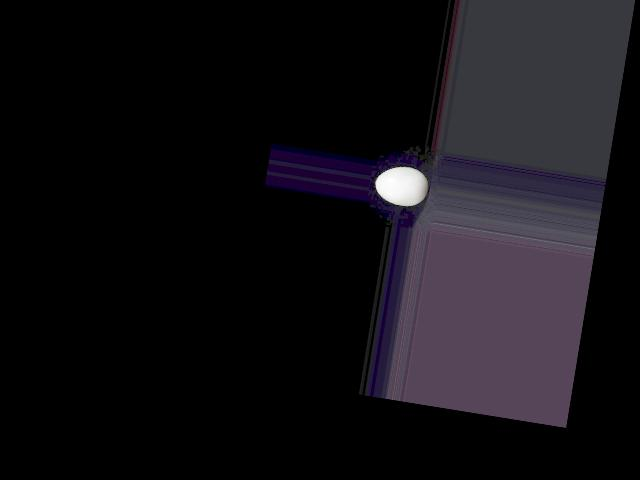egg: (373, 163, 431, 209)
